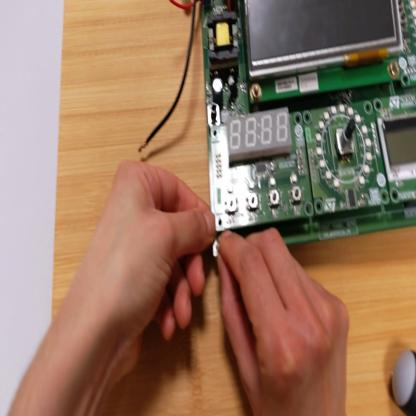hand: (85, 159, 216, 363), (216, 225, 349, 414)
low voltage board: (137, 5, 416, 251)
screwdriver-: (392, 350, 416, 412)
working area: (50, 2, 415, 416)
